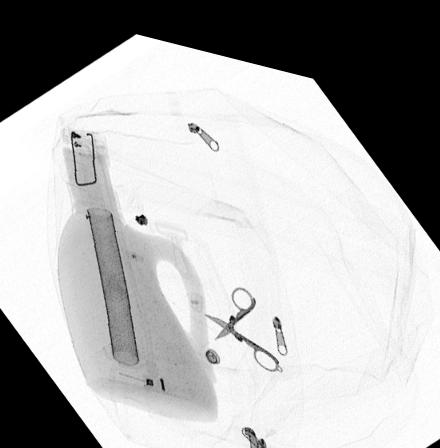Scissors: (202, 271, 284, 359)
